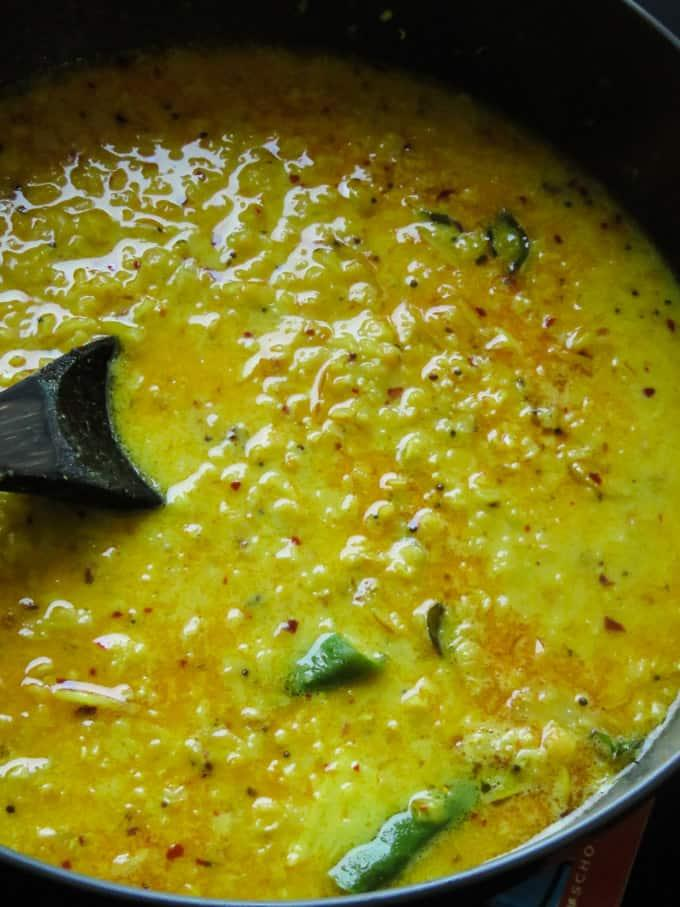Dhal Curry: (16, 26, 656, 885)
